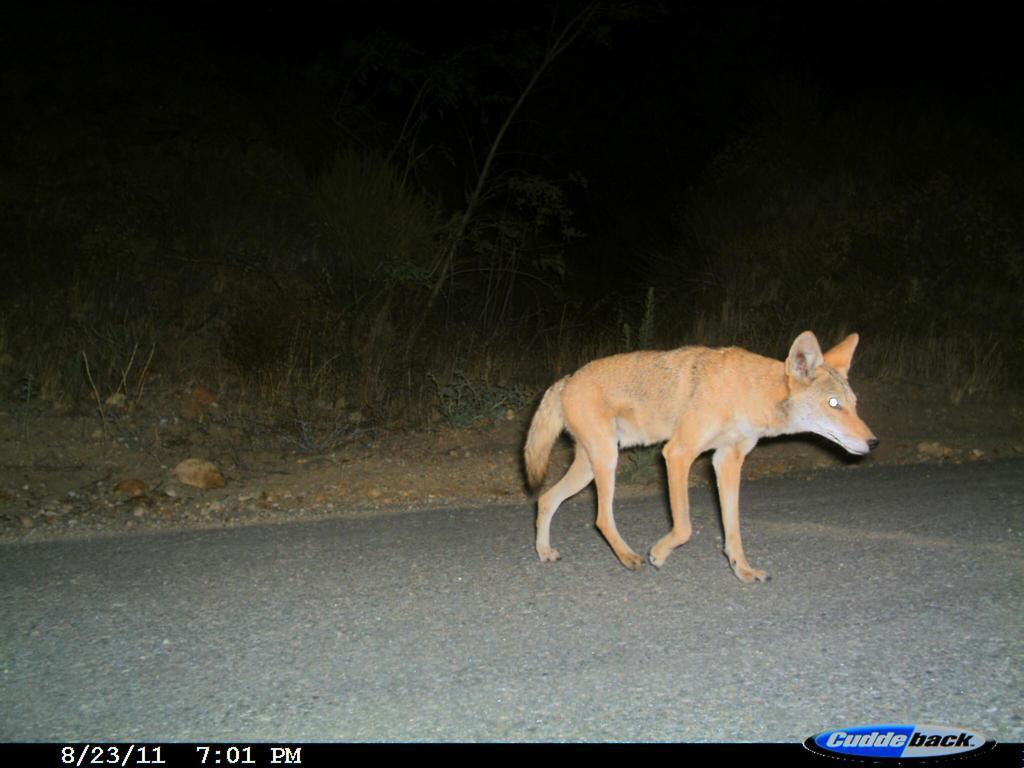coyote: (505, 318, 902, 602)
